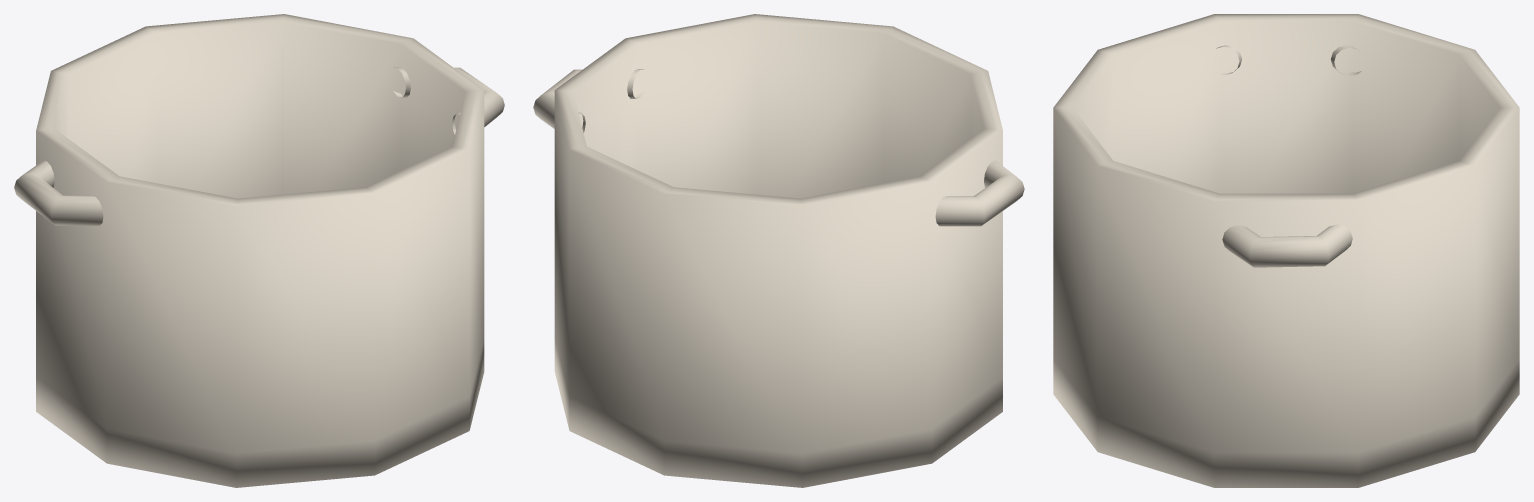
File: Pot.glb
3 renders of one model, left to right at view 1: azimuth 30°, elevation 25°; view 2: azimuth 150°, elevation 25°; view 3: azimuth 270°, elevation 25°, orthographic.
Visible parts, largest first — view 1: Cylinder.014; view 2: Cylinder.014; view 3: Cylinder.014.
Boxes of the visible parts, x1,y1,x2,y2 form: Cylinder.014: [14, 14, 504, 487]; Cylinder.014: [533, 14, 1024, 487]; Cylinder.014: [1053, 14, 1519, 487].
Size of the model in its own units: 5.63 by 3.33 by 4.92.
1 material, 1 textured.
